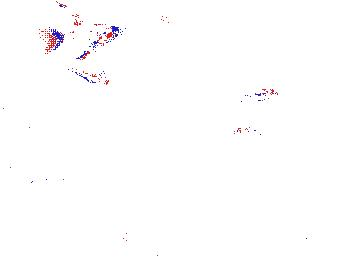red belly glassfish: (232, 123, 277, 140), (235, 87, 279, 103)
redtail glassfish: (44, 22, 97, 56), (66, 23, 116, 59)
